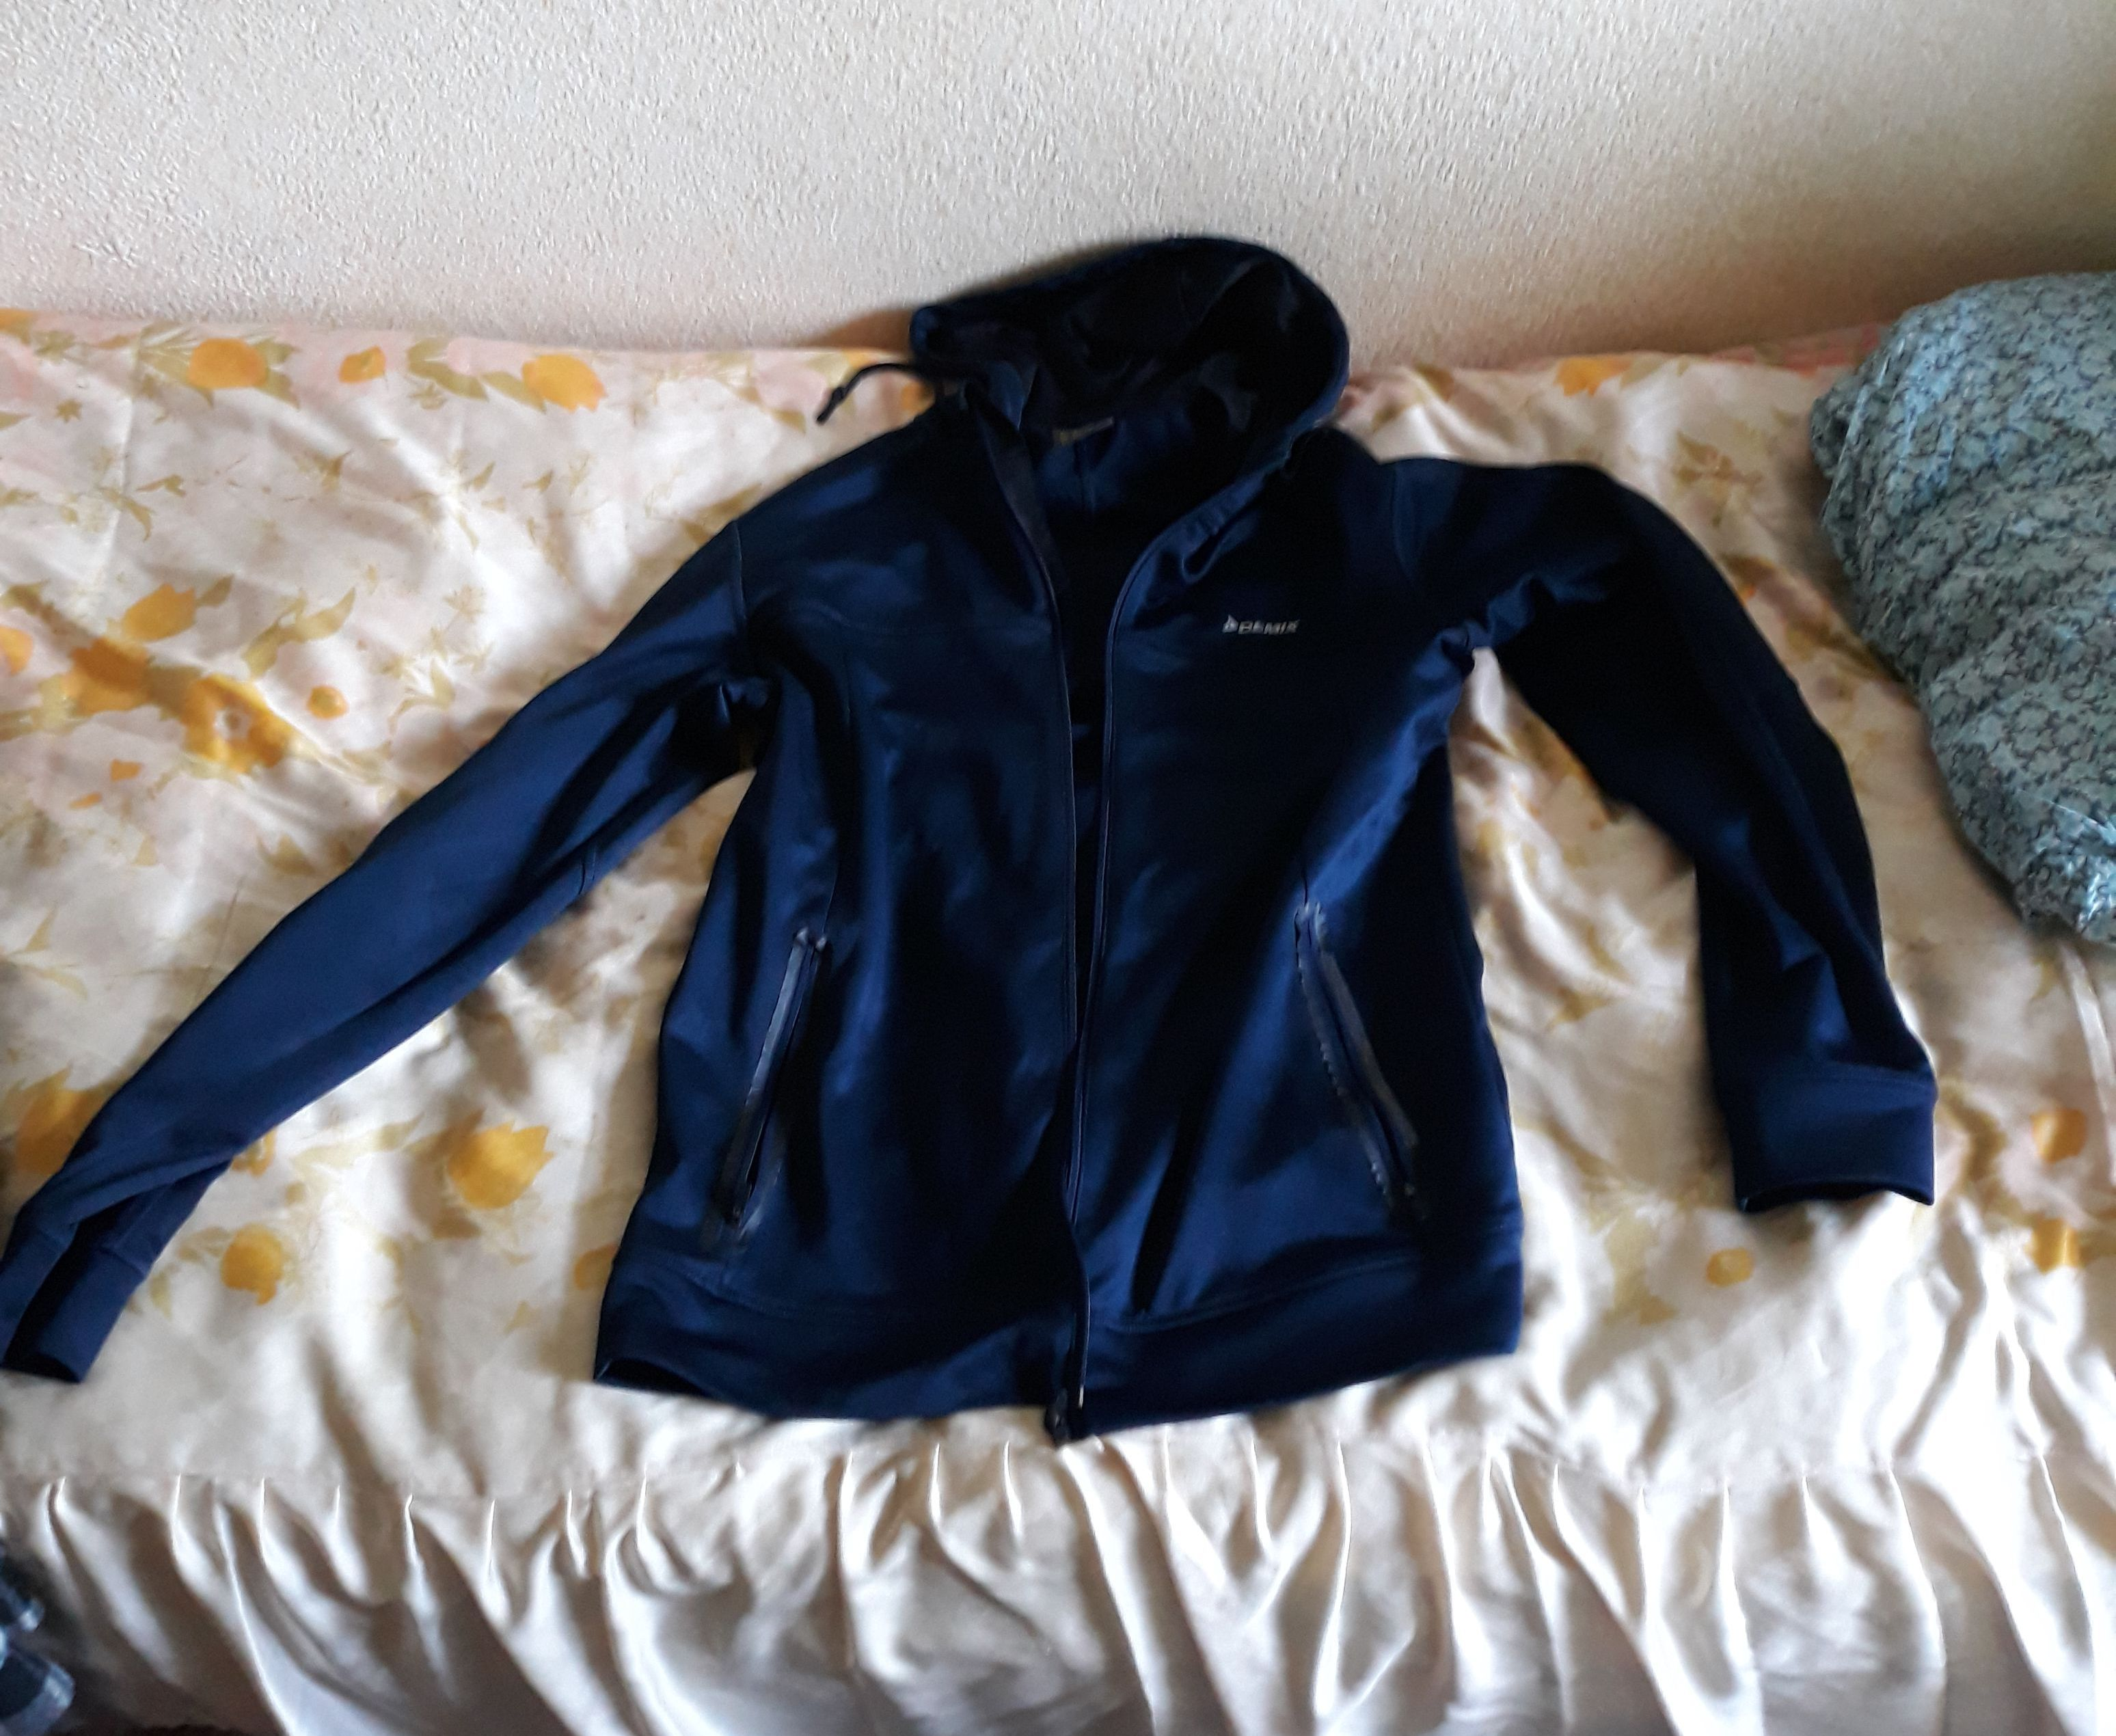clothes: (11, 221, 1953, 1464)
